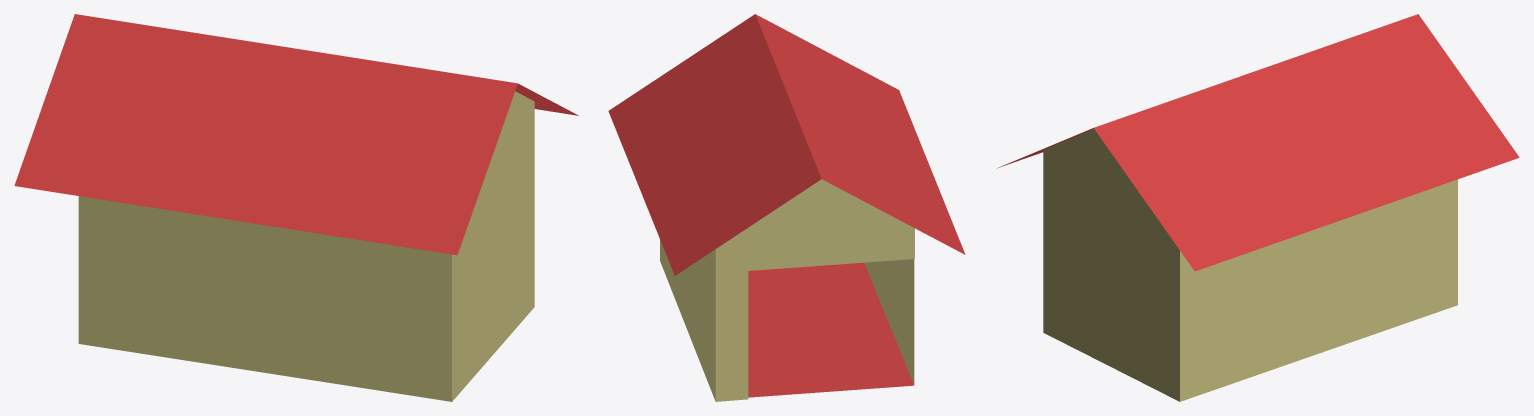
The picture shows the model from 3 angles, left to right: view 1: azimuth 30°, elevation 25°; view 2: azimuth 150°, elevation 25°; view 3: azimuth 270°, elevation 25°; orthographic projection. The views are drawn at different scales.
Size of the model in its own units: 25.9 by 26.62 by 13.73.
